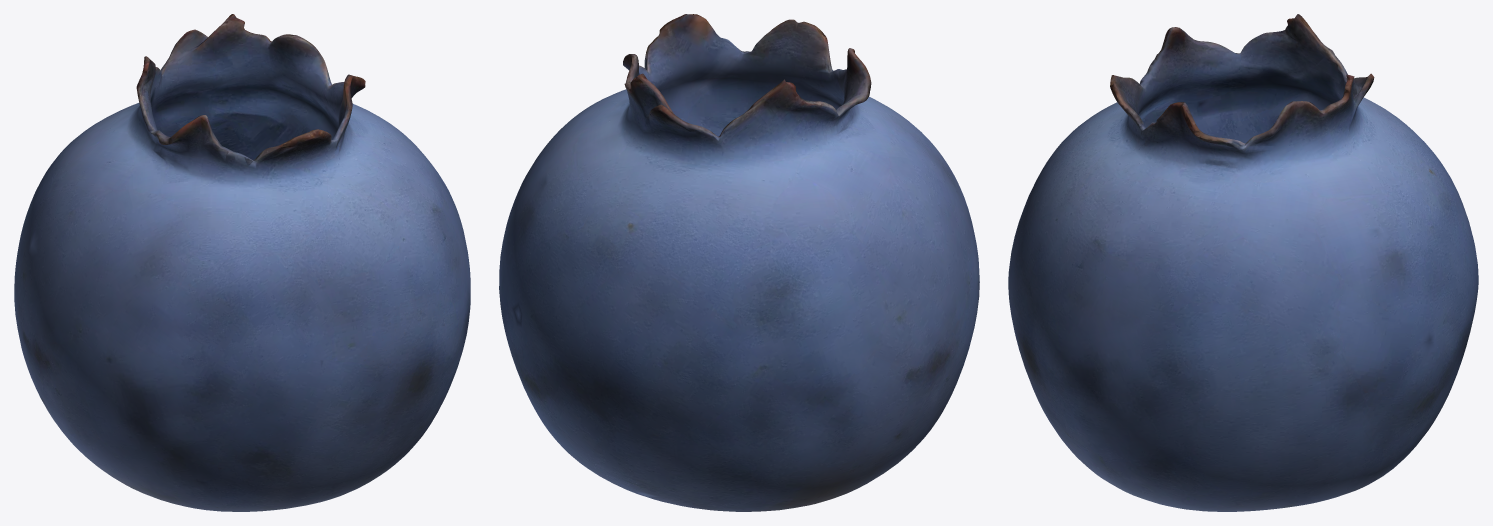
The model's file is bk-berry-blueberry.glb.
The picture shows the model from 3 angles, left to right: view 1: azimuth 30°, elevation 25°; view 2: azimuth 150°, elevation 25°; view 3: azimuth 270°, elevation 25°; orthographic projection. The views are drawn at different scales.
Parts seen in each view (by area): view 1: node_0; view 2: node_0; view 3: node_0.
Boxes of the visible parts, x1=… form: node_0: x1=14, y1=14, x2=470, y2=511; node_0: x1=499, y1=14, x2=979, y2=511; node_0: x1=1008, y1=14, x2=1478, y2=511.
Bounding box in the file's own units: 1.08 × 1.09 × 1.08.
Materials: 1 (1 with a texture image).
